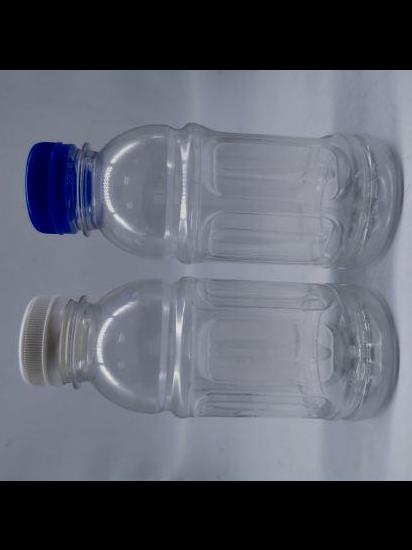bottle: (2, 274, 404, 436), (1, 112, 404, 264)
